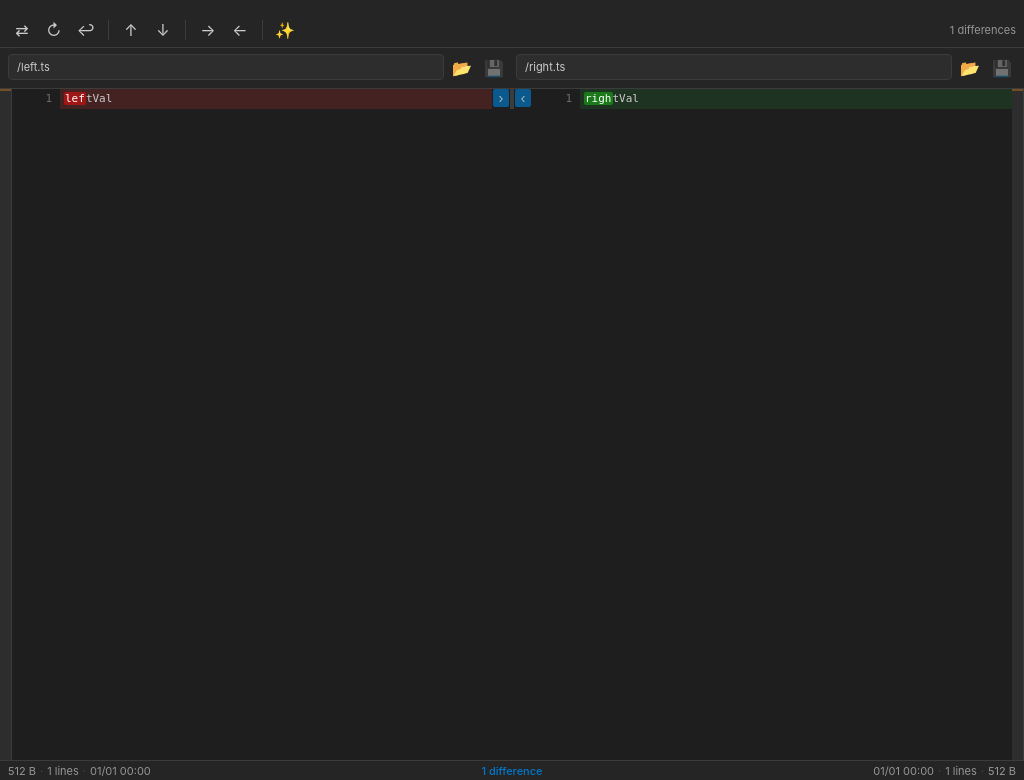
Test: Copy single line to other side (feature 5.1) › copy-to-left button makes left dirty and removes diff
Check: the element with class "fd-diff-modified" showing "1 leftVal" is shown, box [12,89,492,109]
Click the button with class "fd-line-copy-left" at [523, 98], box [515,89,531,107]
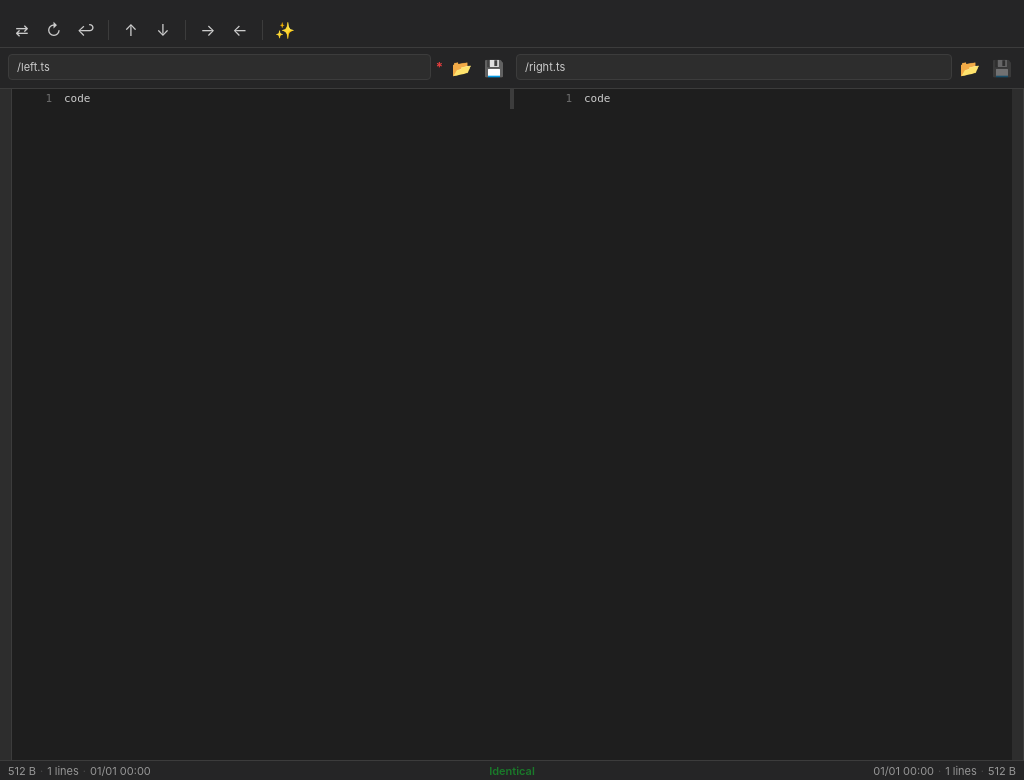
Check: the 1st button "💾" is enabled, box [480,54,508,82]
